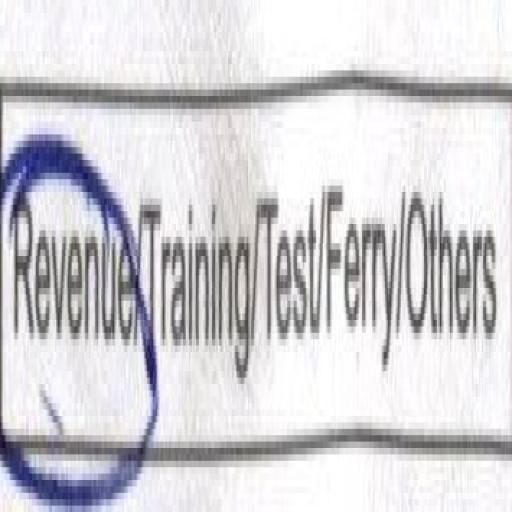check: (0, 22, 142, 512)
